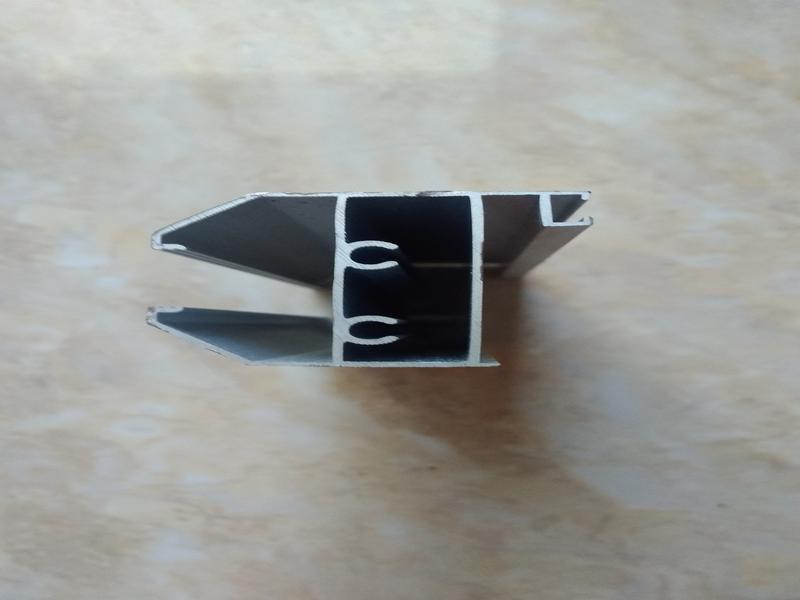Aluminium_3: (124, 143, 650, 410)
